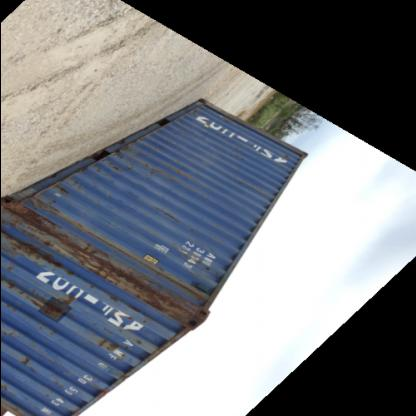Damage: (0, 252, 212, 330), (8, 198, 84, 250), (95, 142, 136, 182), (91, 333, 147, 361), (139, 156, 183, 186), (88, 220, 121, 252), (46, 175, 77, 197), (24, 350, 44, 374), (160, 208, 184, 226)
